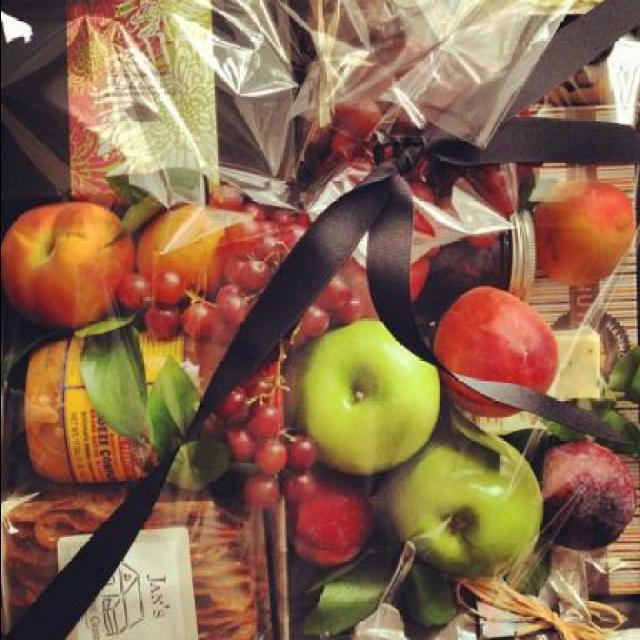Apple pie: (296, 326, 444, 489), (382, 433, 544, 581), (2, 200, 138, 332)
